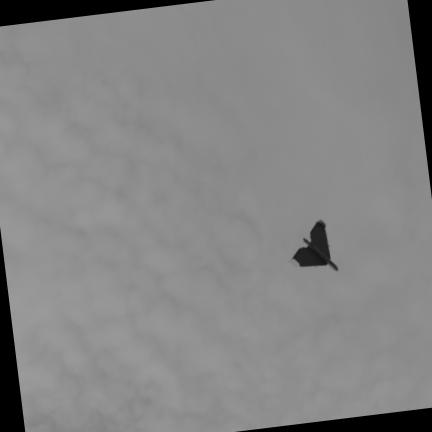Shahed: (289, 219, 337, 270)
